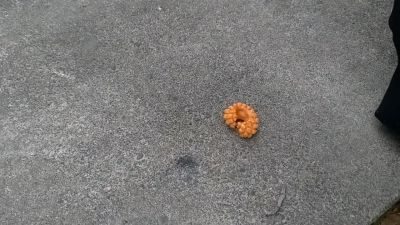eggs: (221, 102, 259, 140)
